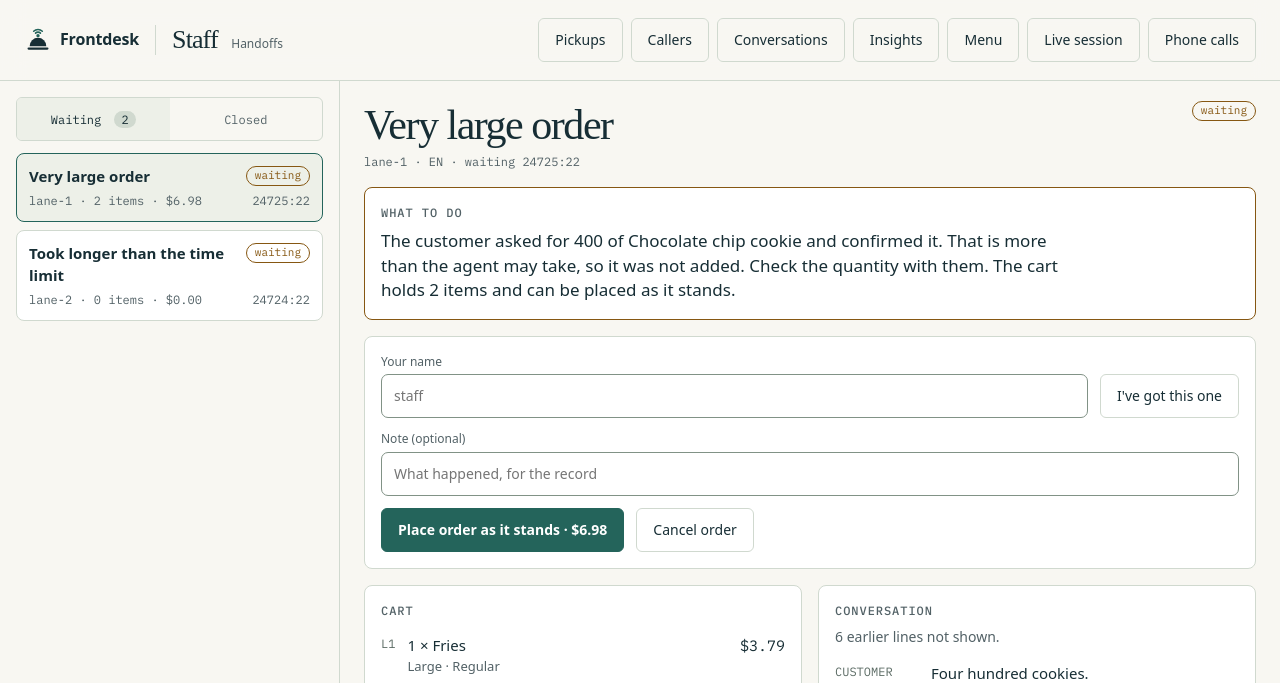
it: the staff screen › says so when someone else closed it first
Click the button "Cancel order": (695, 530) [636,508,754,552]
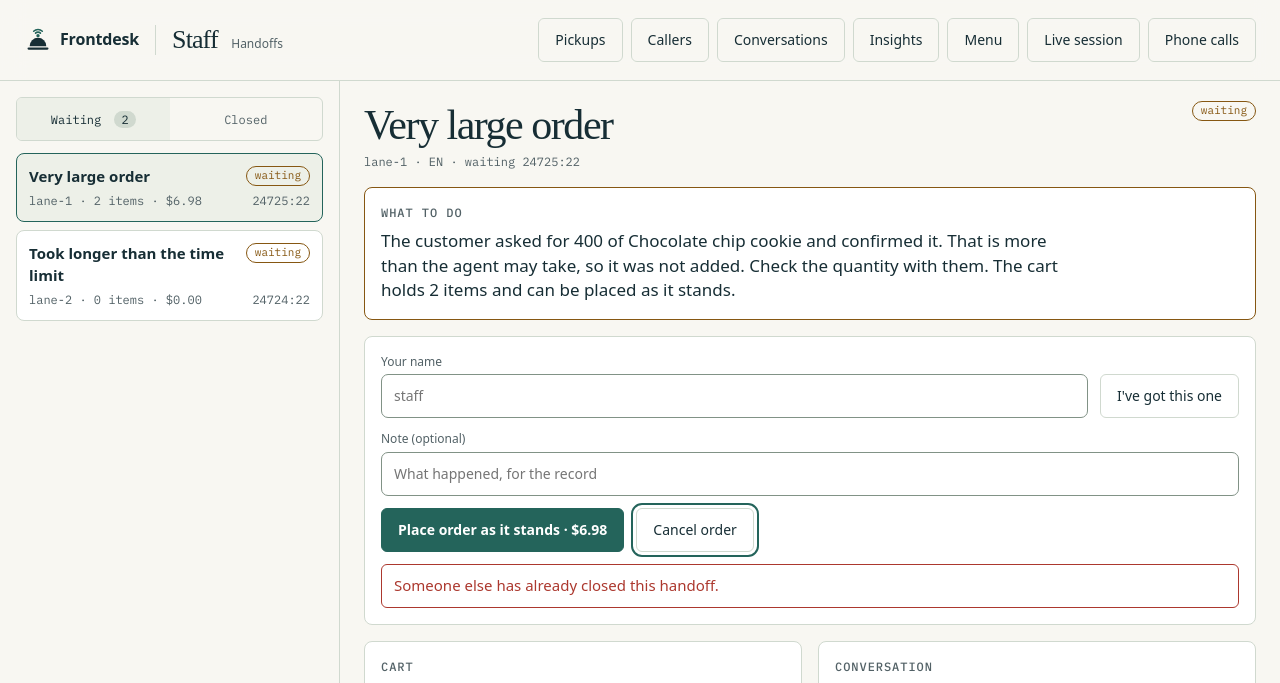
Expected: the message reads "Someone else has already closed this handoff.", [394,575,719,595]
